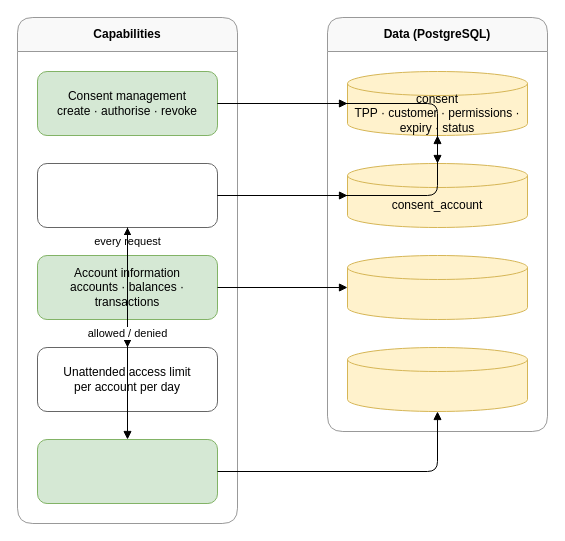
This 565x541 diagram has some shape labels left out. Each missing label, with the centre of its shape:
Access log: the point at 127,471
access_log append-only: the point at 437,379
account · transaction synthetic: the point at 437,287
Consent guard TPP · status · expiry · permission · account: the point at 127,195
